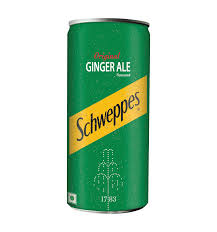Soda Can: (62, 14, 152, 217)
